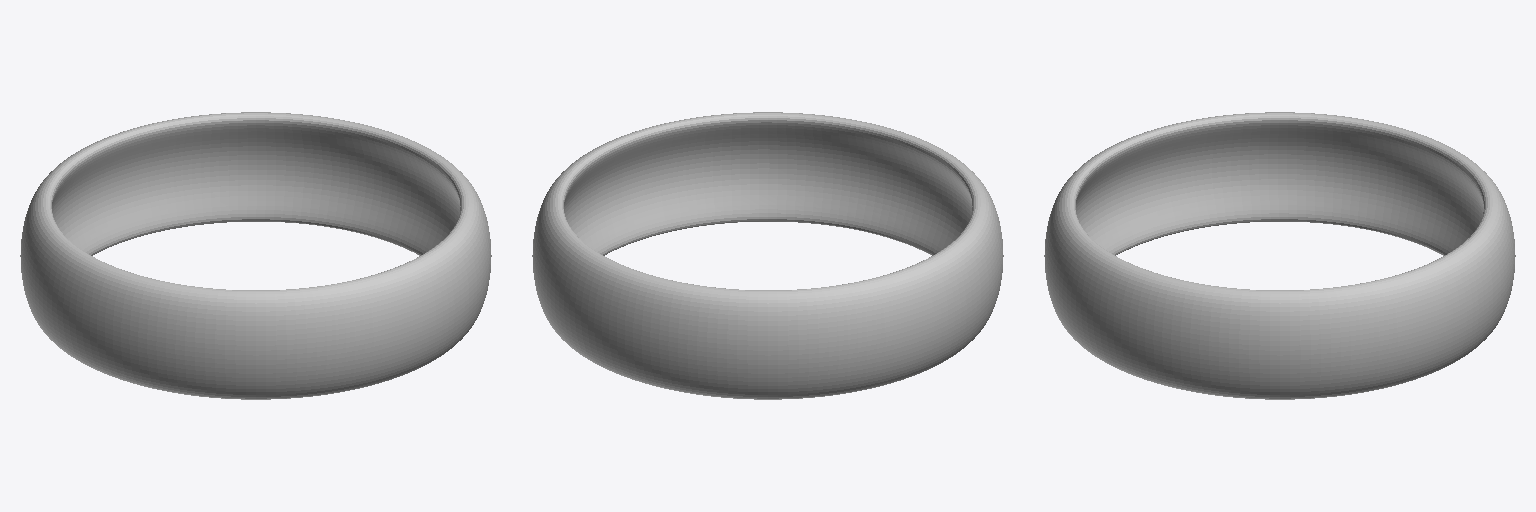
The model's file is objring.obj.
The picture shows the model from 3 angles: view 1: azimuth 30°, elevation 25°; view 2: azimuth 150°, elevation 25°; view 3: azimuth 270°, elevation 25°; orthographic projection.
Visible parts, largest first — view 1: Alian?a; view 2: Alian?a; view 3: Alian?a.
Boxes of the visible parts, x1,y1,x2,y2 form: Alian?a: [20, 112, 491, 399]; Alian?a: [532, 112, 1003, 399]; Alian?a: [1044, 112, 1515, 399].
Size of the model in its own units: 117 by 29.48 by 117.